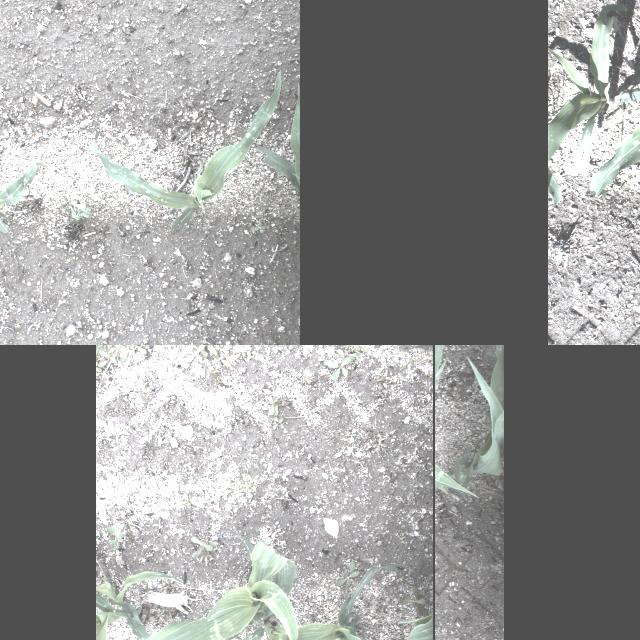crop: (88, 69, 282, 231), (547, 1, 640, 211), (124, 535, 298, 640), (187, 564, 416, 640), (435, 345, 502, 497), (587, 36, 640, 200), (95, 570, 185, 640), (255, 90, 299, 190), (0, 161, 45, 234), (234, 608, 281, 640), (70, 203, 92, 221)
weed: (216, 438, 262, 498), (400, 584, 430, 614), (322, 356, 353, 380), (336, 560, 364, 586), (190, 535, 217, 559), (550, 232, 574, 256), (206, 345, 230, 366), (105, 524, 124, 550), (548, 87, 564, 117), (260, 394, 278, 416), (184, 345, 207, 362), (98, 348, 116, 368), (176, 492, 198, 508), (372, 372, 386, 391), (231, 345, 248, 360), (117, 345, 132, 362), (593, 296, 607, 314), (252, 220, 268, 234), (338, 348, 362, 357), (252, 382, 270, 393), (48, 320, 64, 332), (345, 427, 357, 443), (124, 345, 145, 354), (271, 416, 285, 428), (372, 440, 388, 450), (149, 345, 164, 355), (97, 345, 113, 353), (379, 384, 386, 400), (280, 397, 290, 408), (312, 496, 330, 502), (353, 345, 368, 351), (304, 379, 312, 387), (36, 296, 46, 302), (96, 359, 100, 373), (92, 185, 100, 191), (226, 425, 234, 431), (222, 380, 230, 386), (169, 394, 177, 400), (138, 442, 146, 448), (213, 410, 220, 416), (428, 438, 432, 446), (415, 420, 421, 424), (396, 534, 402, 538), (217, 382, 221, 388)
